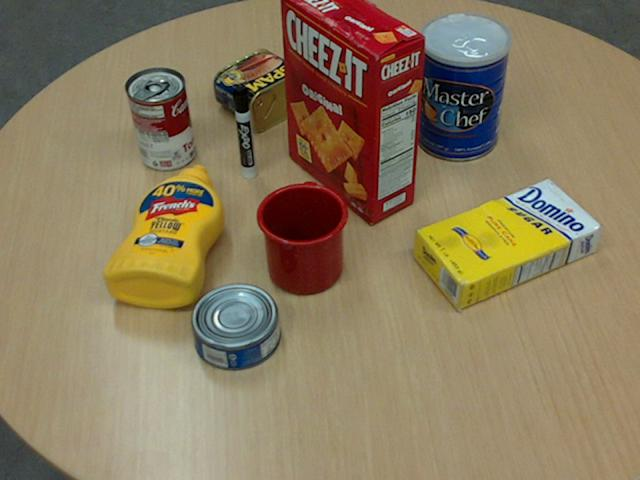cracker_box: (281, 0, 424, 221)
gelatin_box: (327, 46, 397, 106)
large_marker: (231, 86, 255, 179)
master_chef_can: (415, 13, 510, 161)
mug: (254, 182, 347, 294)
mustard_bottle: (102, 164, 223, 307)
potted_meat_can: (213, 48, 314, 130)
sugar_box: (412, 179, 601, 311)
tomato_soup_can: (125, 65, 194, 169)
tuna_fish_can: (190, 283, 280, 370)
